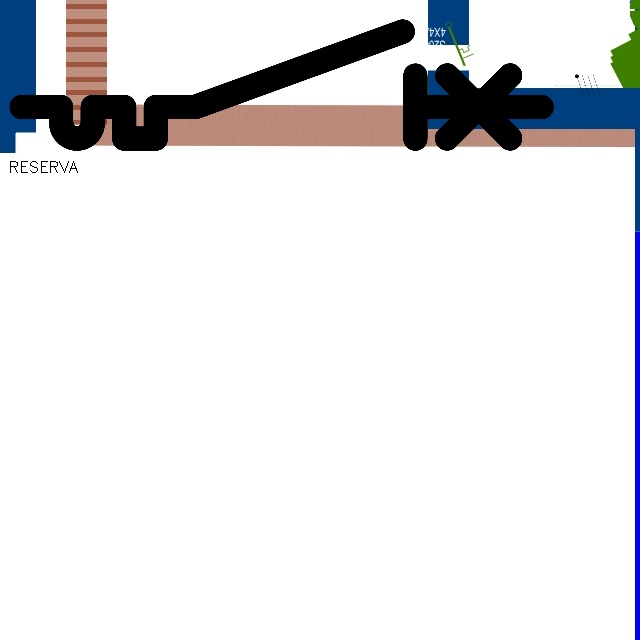interruptor_termomagnetico: (8, 18, 555, 152)
